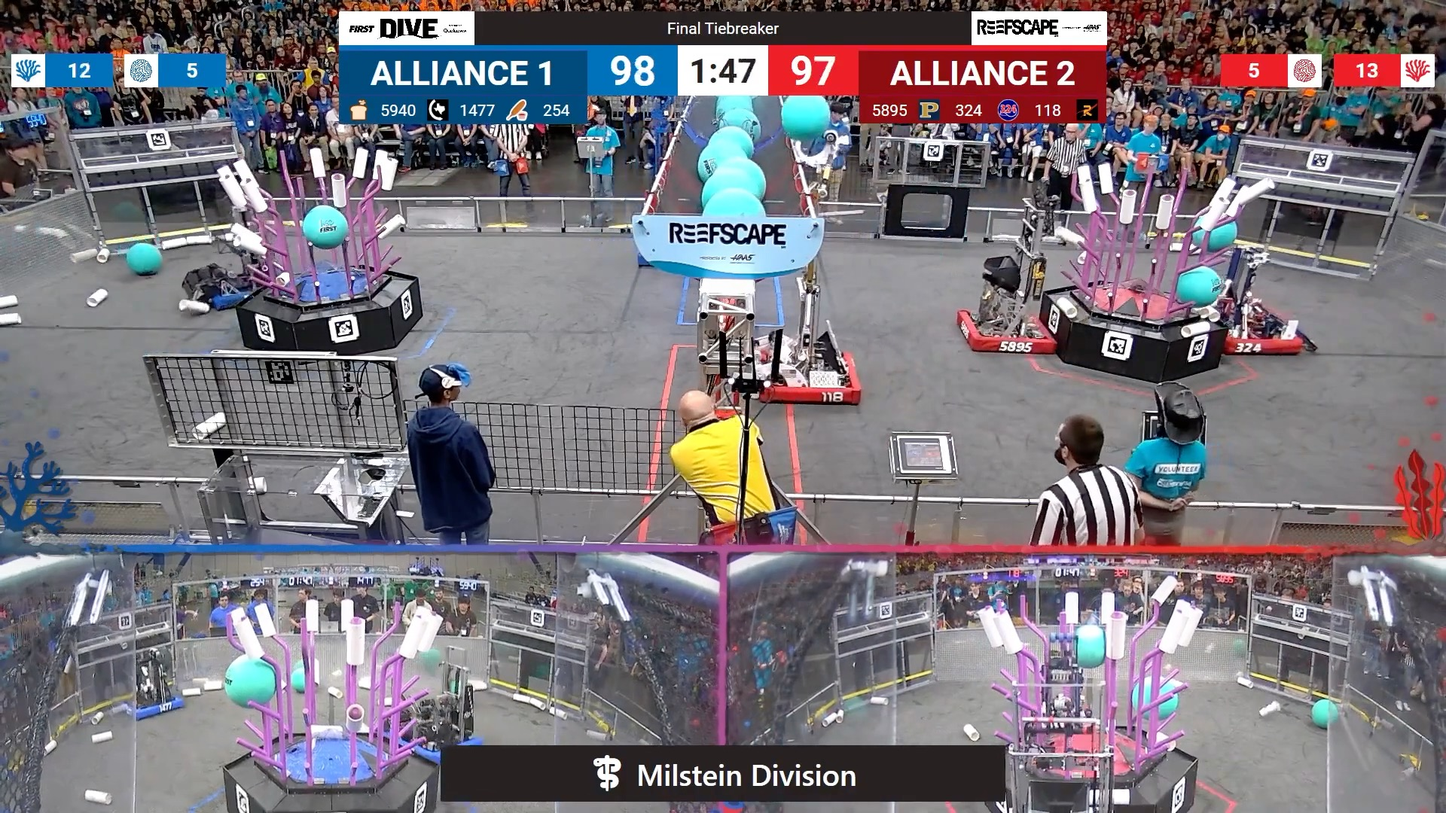bumpers: (756, 347, 867, 411), (955, 306, 1067, 359), (1214, 312, 1313, 365), (182, 266, 268, 313), (379, 720, 489, 752), (115, 692, 192, 726)
